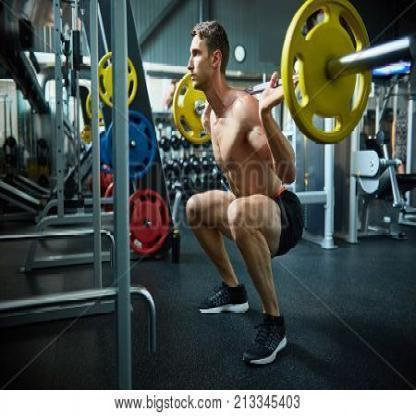Barbell: (398, 28, 416, 66)
